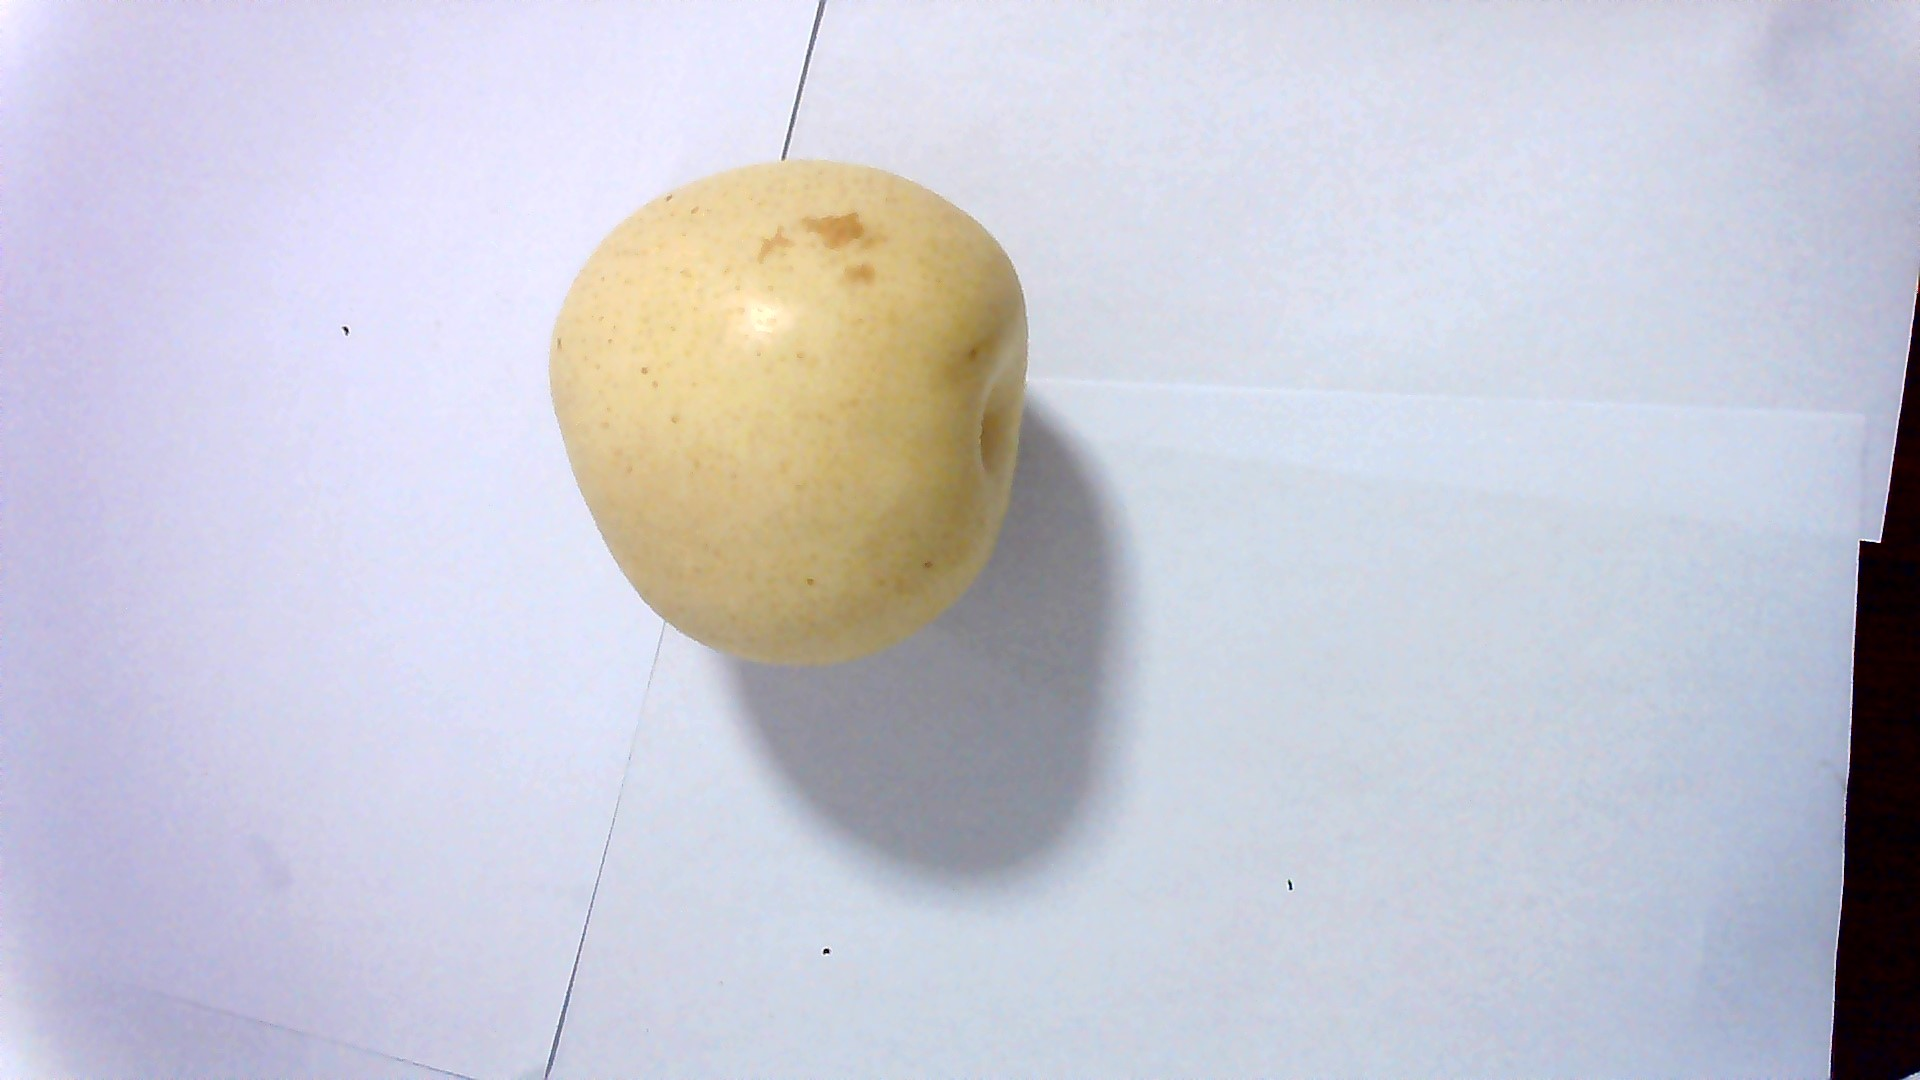pear: (554, 156, 1029, 659)
